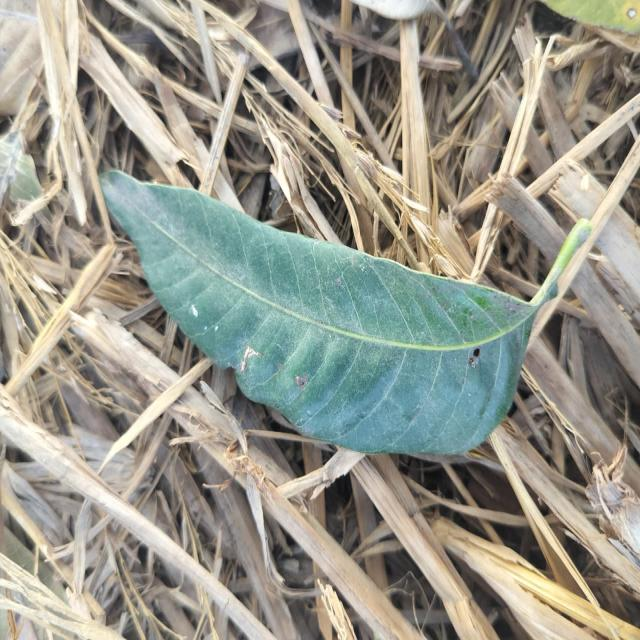Powdery Mildew: (238, 342, 263, 376)
